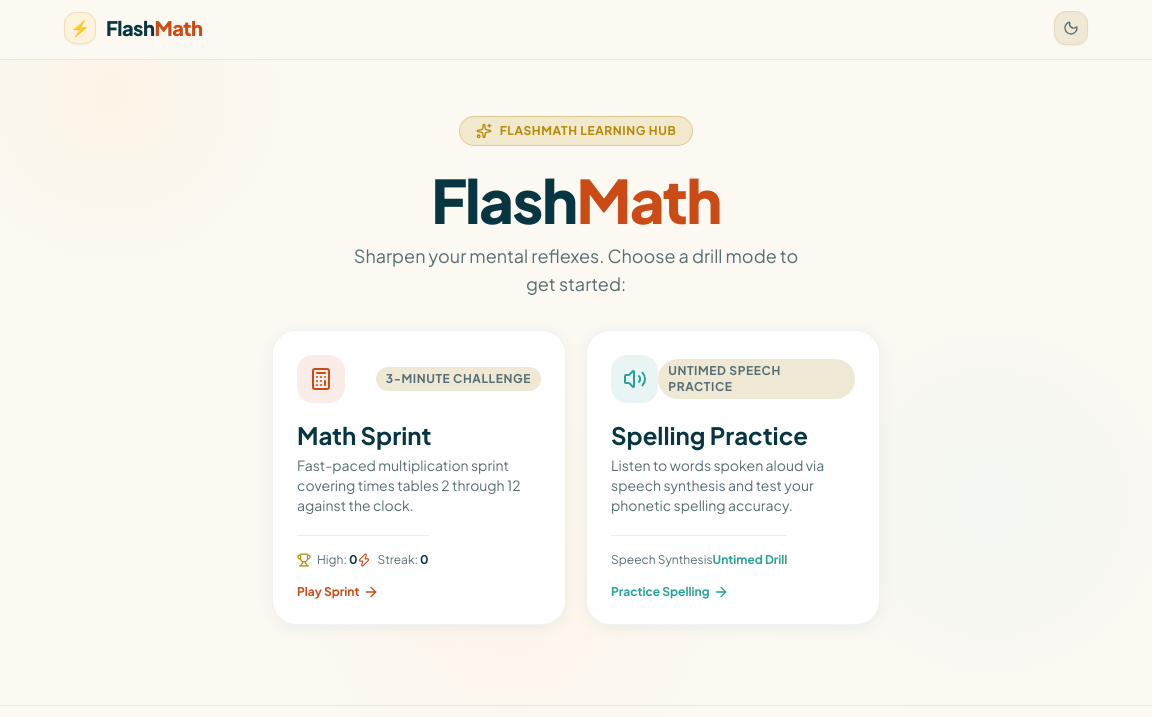
Scenario: FlashMath App Integration › navigates to Most Missed math practice drill from StartScreen and returns without polluting history
The image size is (1152, 717).
Step 1. Click the button with aria-label "start math sprint" → [419, 478], box x1=272 y1=330 x2=566 y2=625
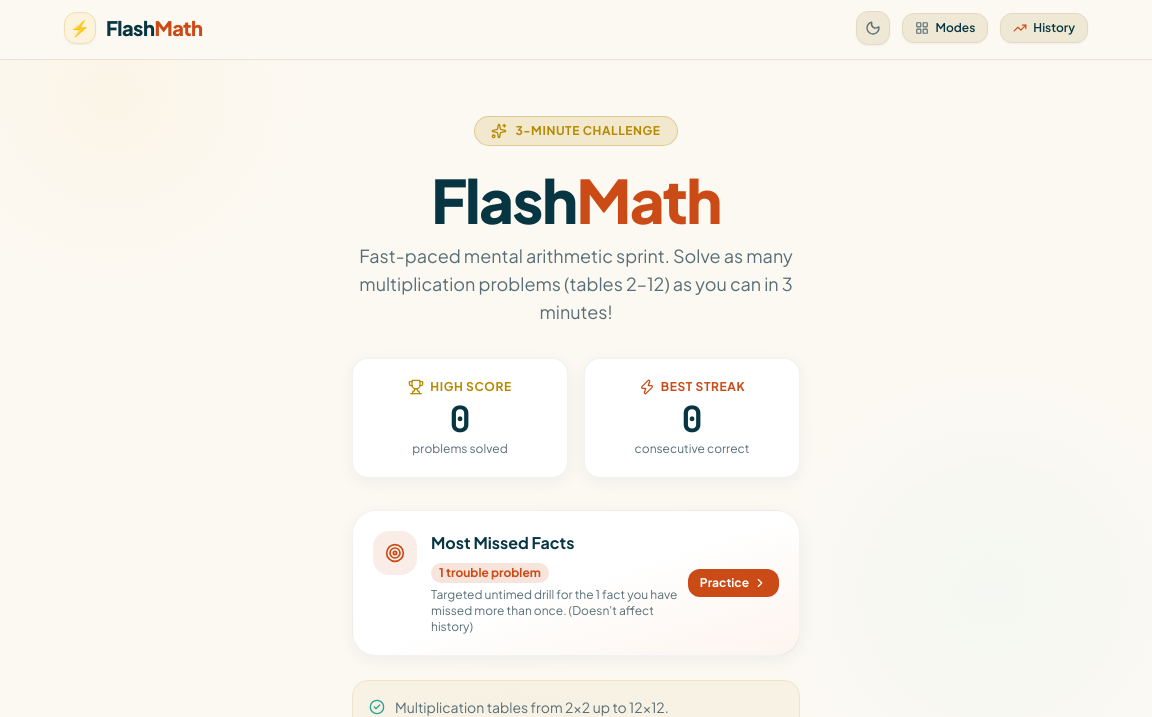
Now the text "1 trouble problem" is shown, box x1=431 y1=563 x2=549 y2=583
Step 2. Click the button with aria-label "practice most missed multiplication problems" → [395, 553], box x1=353 y1=511 x2=799 y2=655
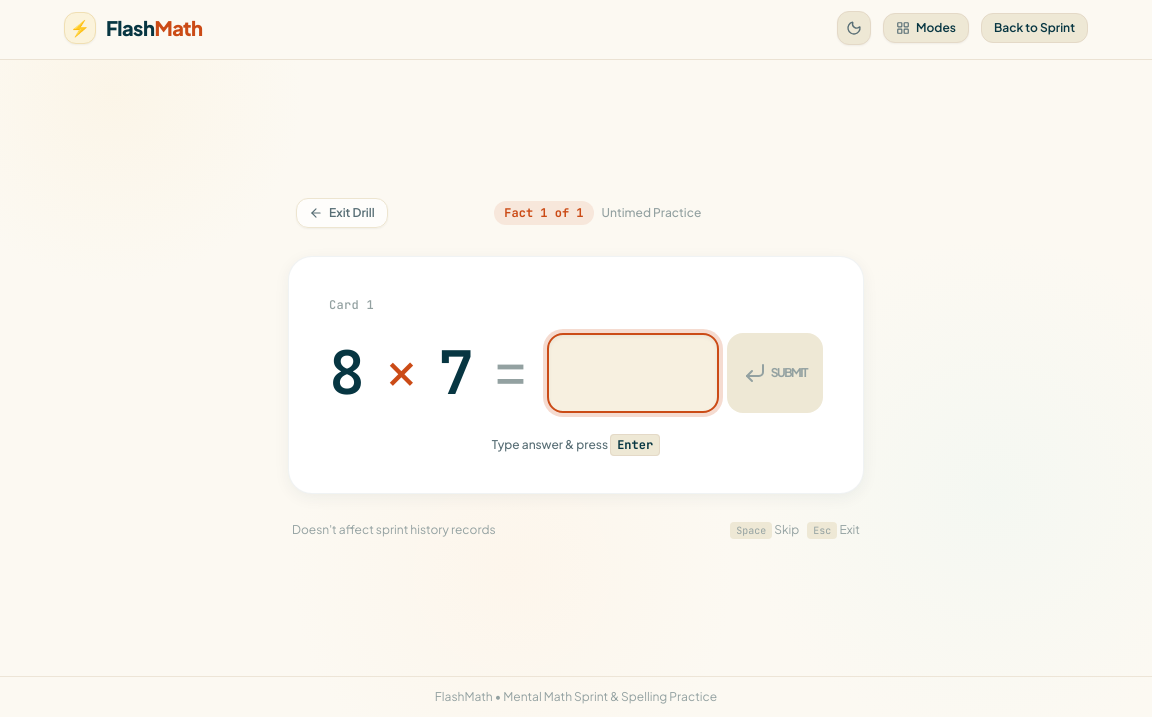
Now the text "Untimed Practice" is shown, box x1=602 y1=204 x2=701 y2=220
Now the text "Fact 1 of 1" is shown, box x1=494 y1=200 x2=594 y2=224
// Answer correctly
Step 3. Type "56" into the field named "your calculation answer" → [633, 372], box x1=565 y1=334 x2=701 y2=410
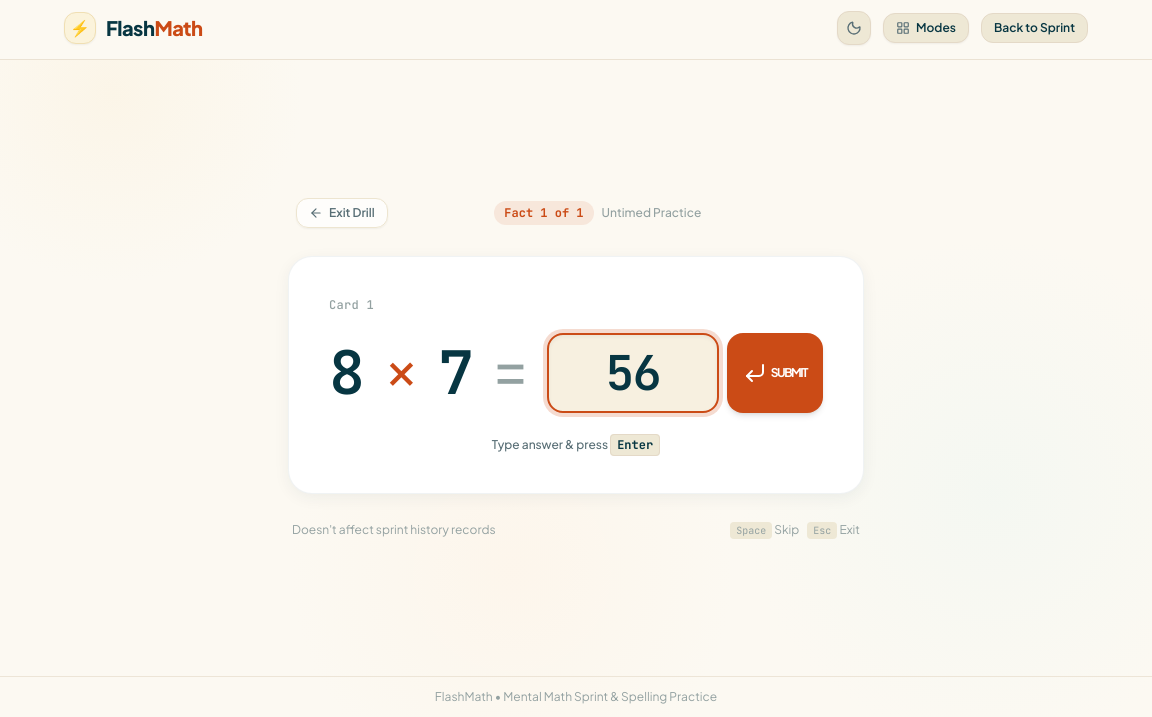
Step 4. Press Enter in the field named "your calculation answer", box x1=565 y1=334 x2=701 y2=410
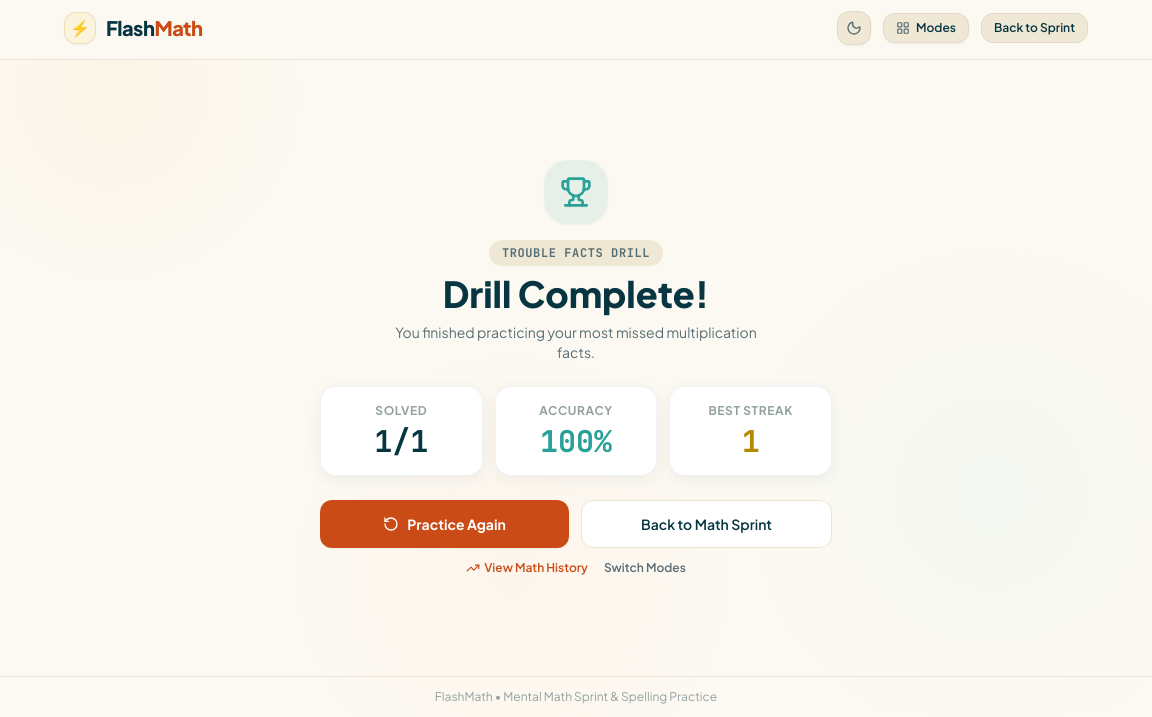
Now the heading "Drill Complete!" is shown, box x1=443 y1=274 x2=709 y2=314
Now the button "Back to Math Sprint" is shown
// Click Back to Math Sprint
Step 5. Click the button "Back to Math Sprint" → [706, 524], box x1=581 y1=500 x2=832 y2=548
(page scrolled)
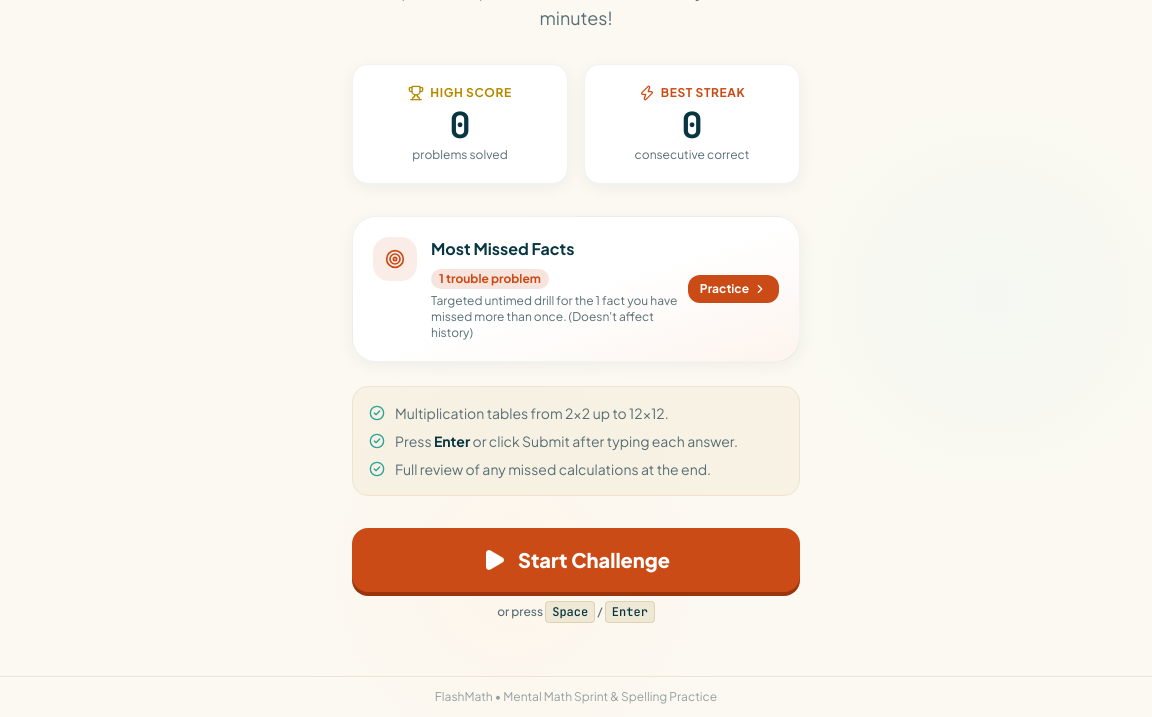
Now the button "Start Challenge" is shown, box x1=352 y1=528 x2=800 y2=592
